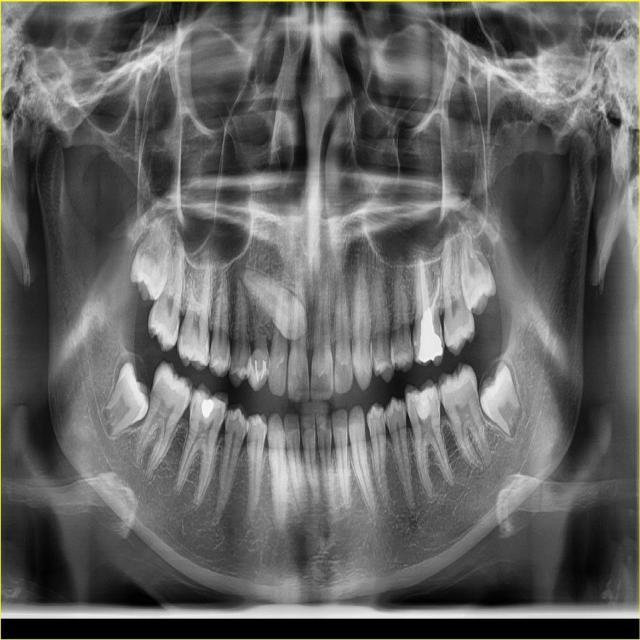74: (427, 275, 442, 324), (418, 259, 431, 315)
NucleOSS Implant: (419, 306, 444, 362), (200, 398, 215, 418)
Sterngold Implant: (215, 402, 228, 425), (170, 319, 180, 338), (178, 325, 187, 341), (412, 341, 419, 359), (408, 342, 416, 357), (405, 401, 412, 416), (204, 346, 210, 361), (190, 397, 196, 411)
Straumann Implant: (412, 384, 434, 420), (247, 352, 268, 389)
